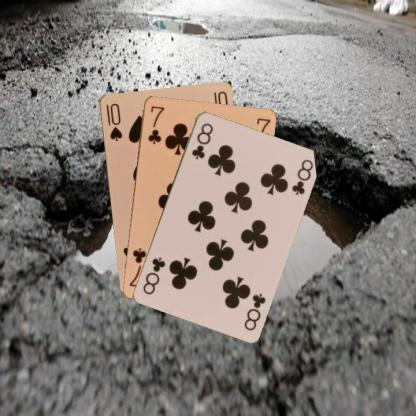10s: (102, 100, 124, 142)
7c: (145, 103, 166, 145)
8c: (241, 290, 267, 332), (189, 120, 214, 161)
